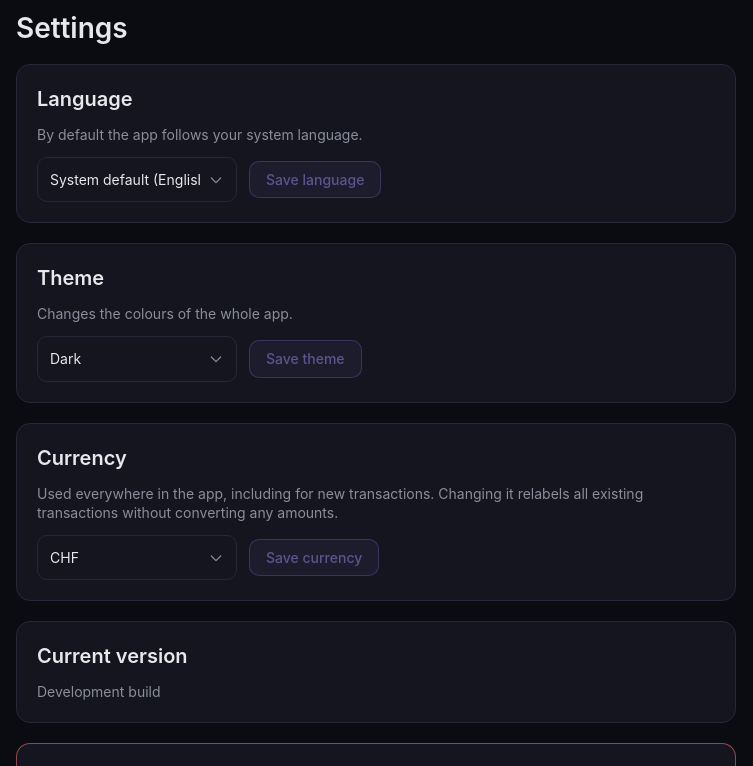
Scenario: SettingsPage language › a failed language change shows an error
This screenshot has width=753, height=766.
Click the button "System default (English)".
click(137, 180)  # box [37,157,237,202]
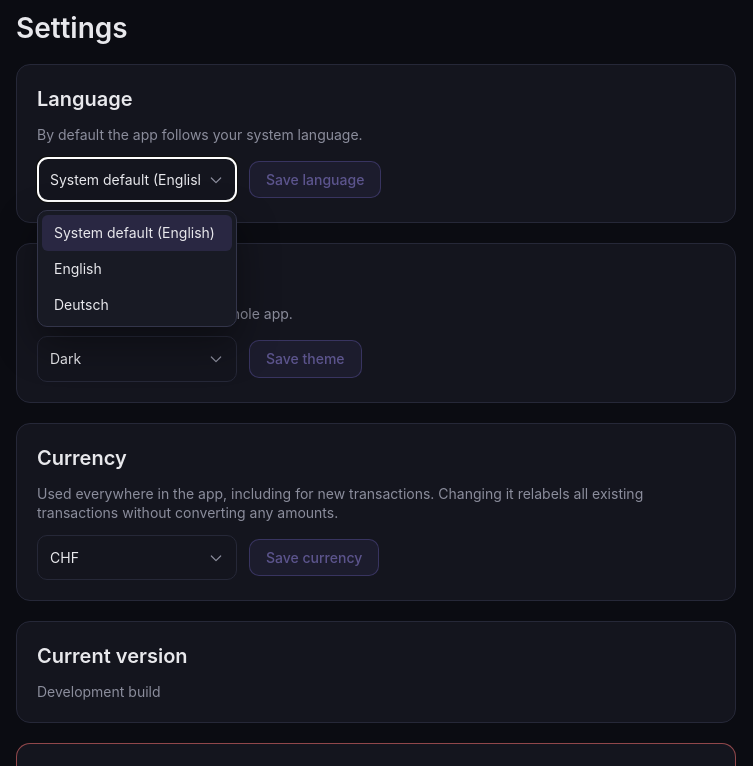
Click the option "Deutsch".
click(137, 304)  # box [42,287,232,322]
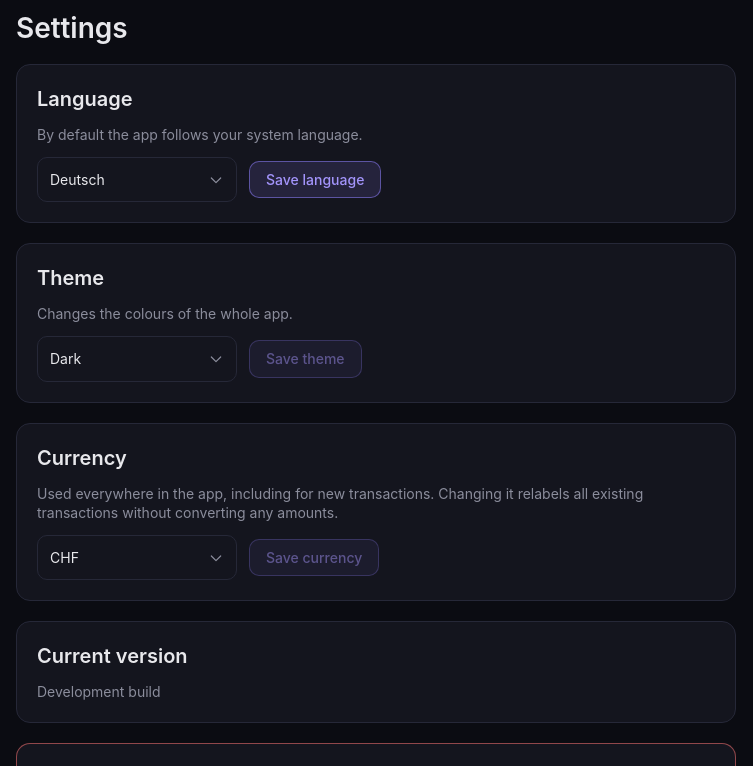
Click the button "Save language".
click(315, 180)  # box [249,161,381,198]
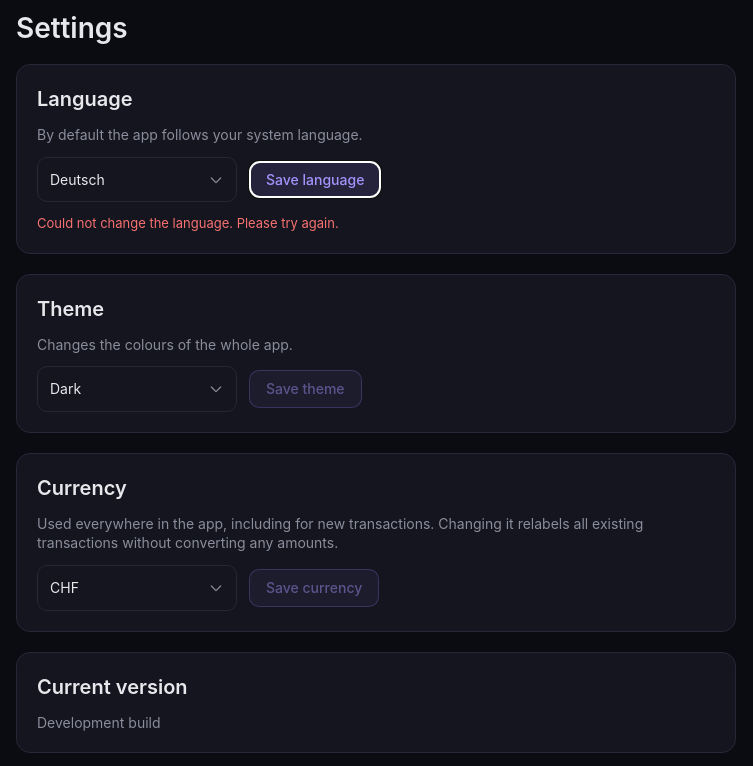
Now the text "Could not change the language. Please try again." is shown, box [37,215,339,231]
